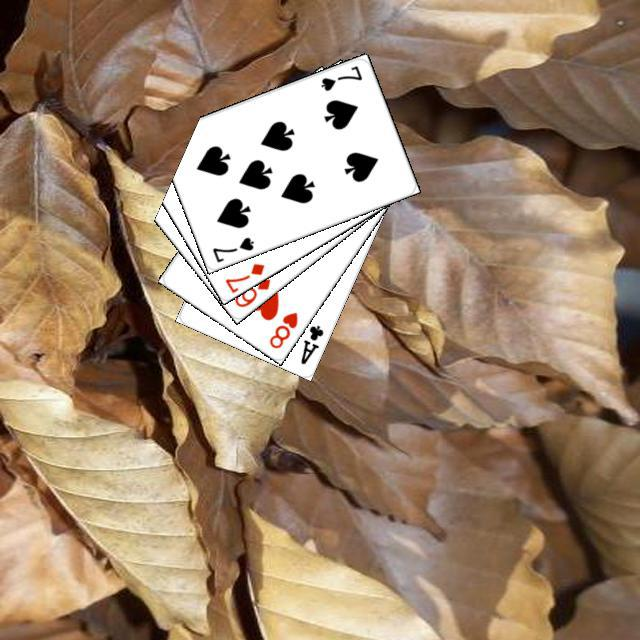6d: (229, 273, 272, 309)
7d: (220, 258, 266, 294)
7s: (208, 232, 256, 264), (316, 61, 364, 93)
8h: (264, 307, 299, 350)
Ac: (295, 320, 325, 366)
